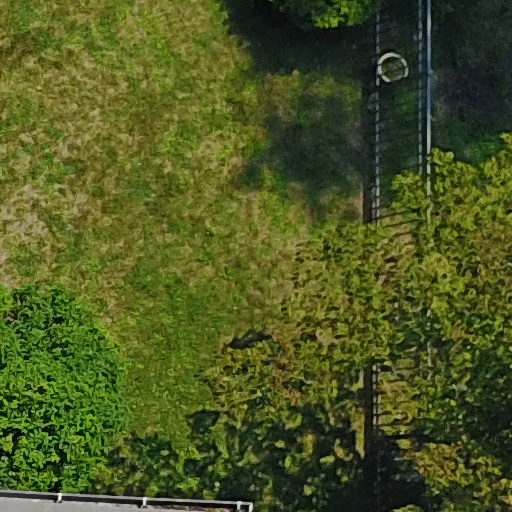flower pot: (375, 43, 414, 98)
